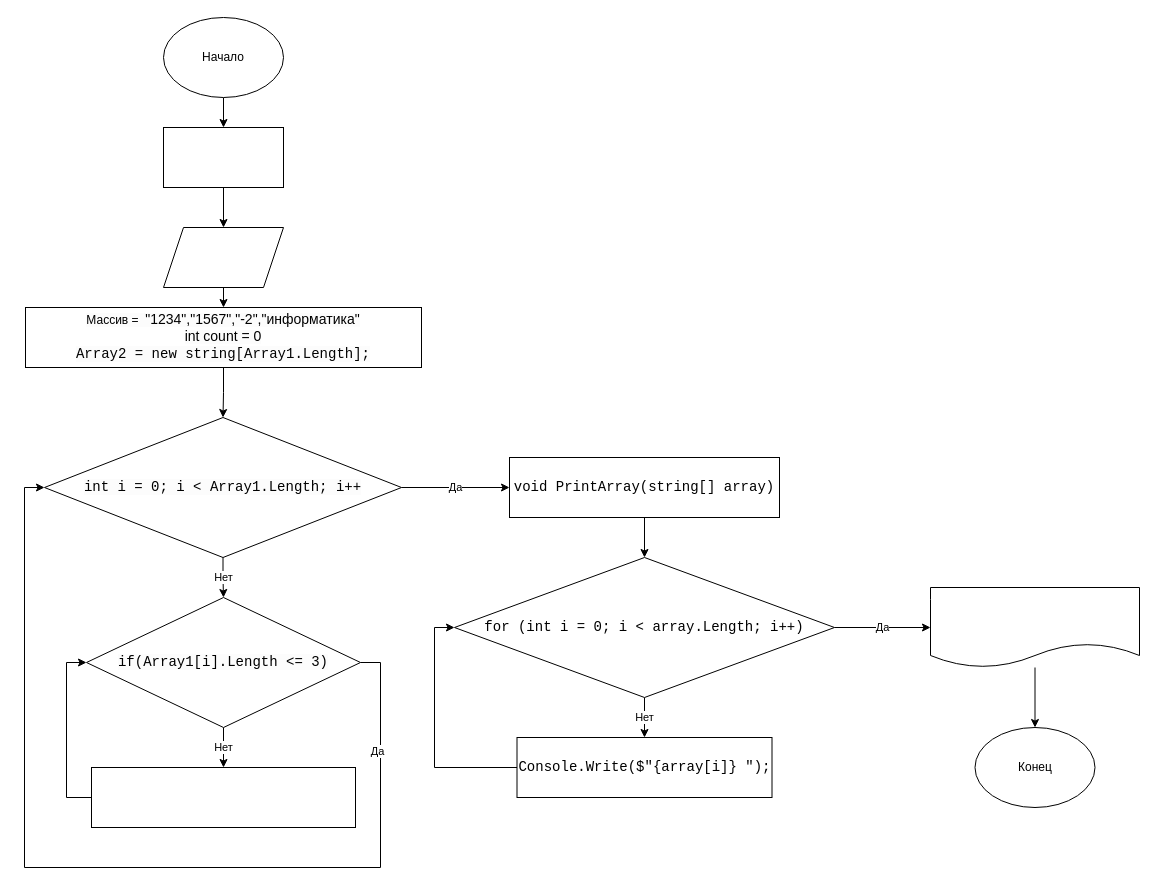
Some shapes in this 1157 by 893 pixel diagram are drawn without their labels. Each missing label, with the centre of its shape:
Array2[count] = Array1[i]; count++;: [223,797]
PrintArray(Array2);: [1035,627]
Мassiv: [223,257]
Мassiv = буквы и цифры: [223,157]
